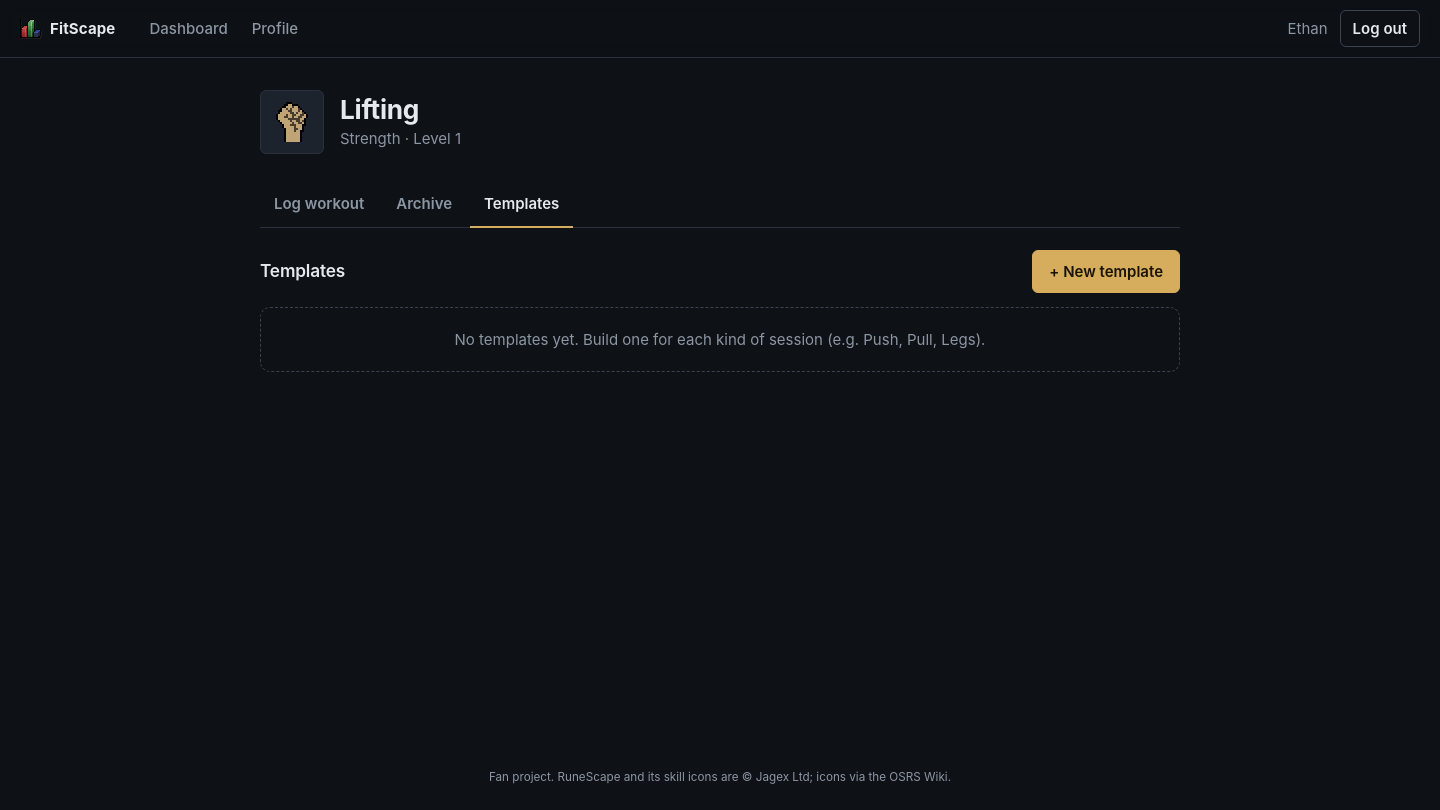
Lifting templates › needs at least one training day
Click the button "+ New template" at (1106, 271), box left=1032, top=250, right=1180, bottom=293
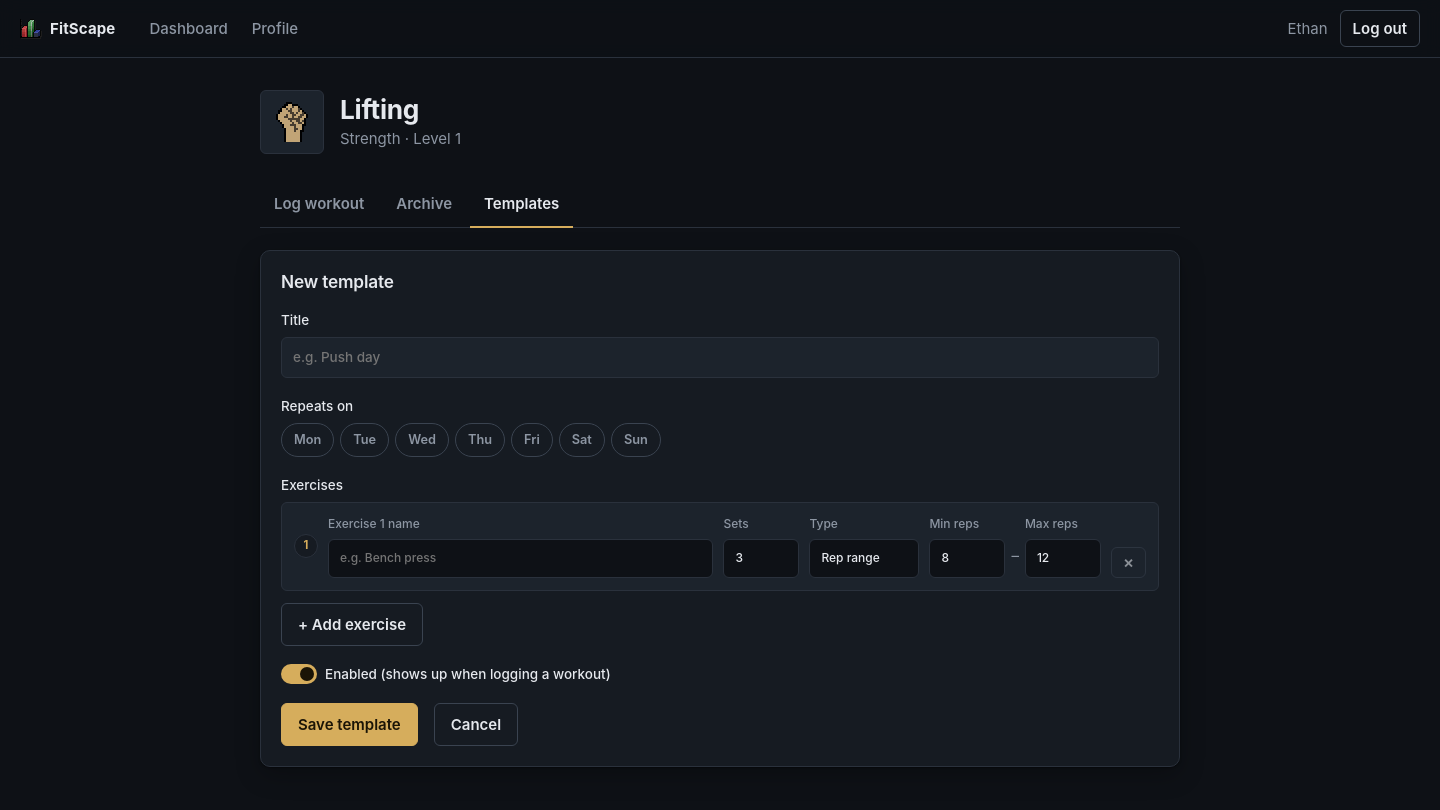
Type "Legs" into the field labelled "Title" at (720, 357), box left=281, top=337, right=1159, bottom=378
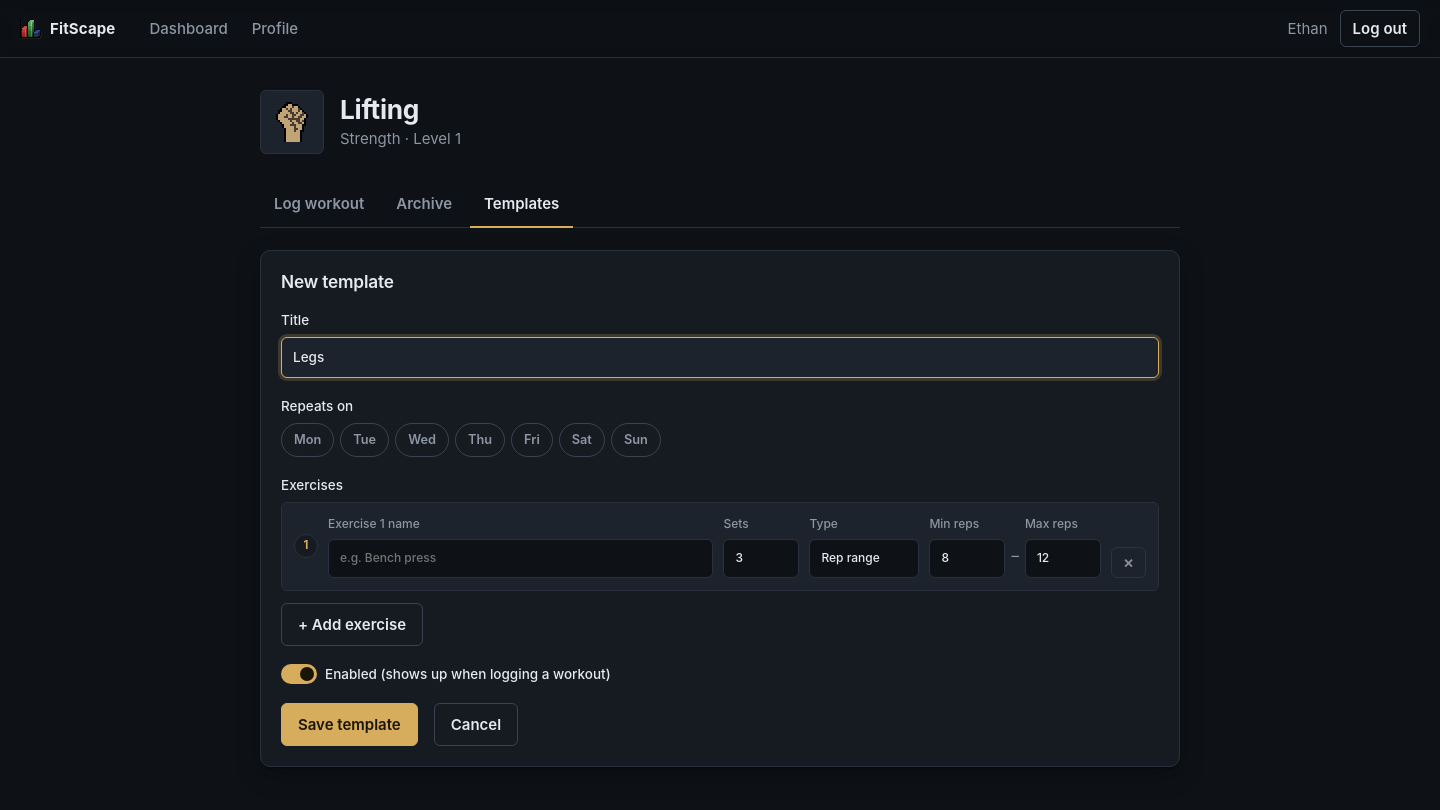
Type "Squat" into the field labelled "Exercise 1 name" at (521, 558), box left=328, top=539, right=713, bottom=578
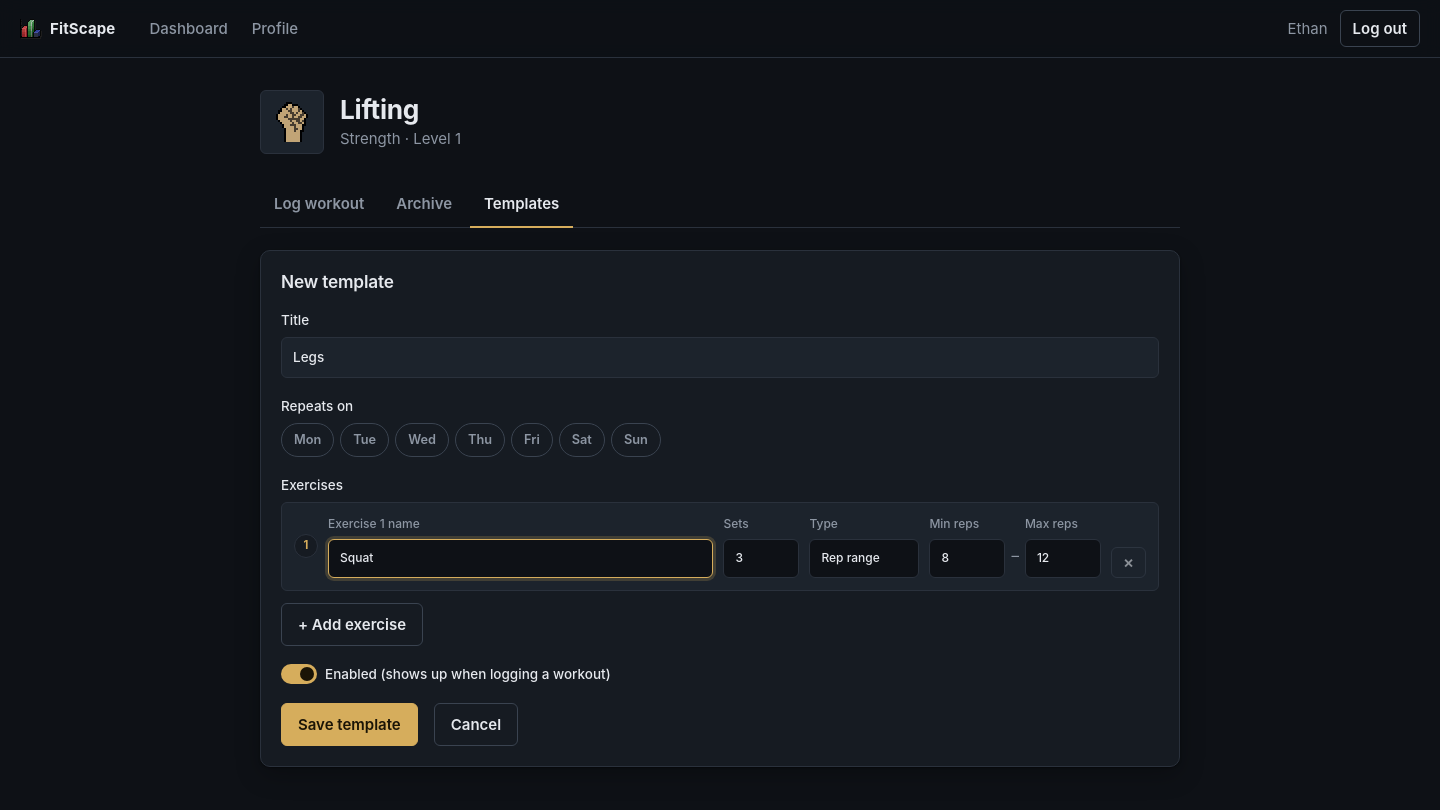
Click the button "Save template" at (349, 725), box left=281, top=703, right=418, bottom=746
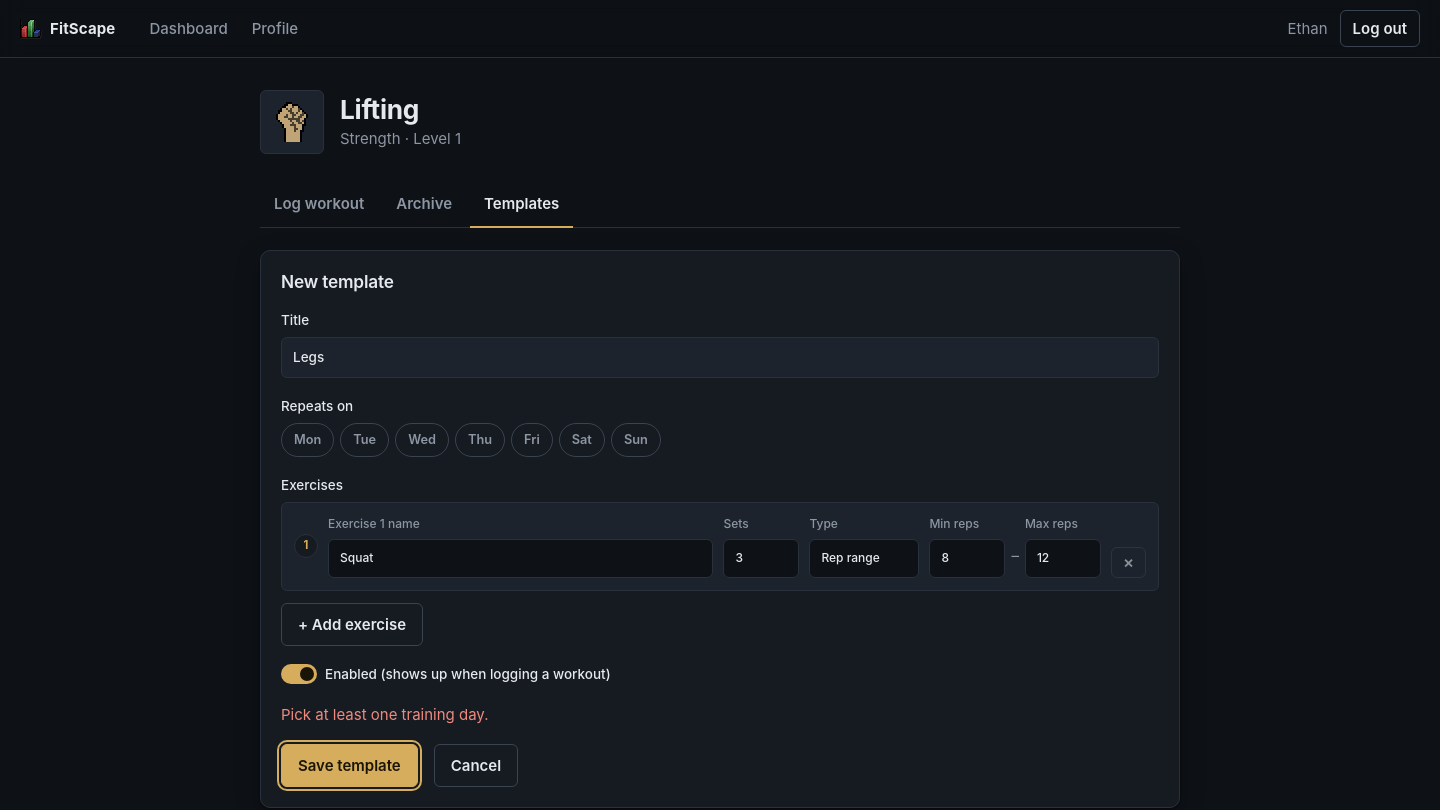
Now the message reads "Pick at least one training day.", box left=281, top=705, right=488, bottom=724
